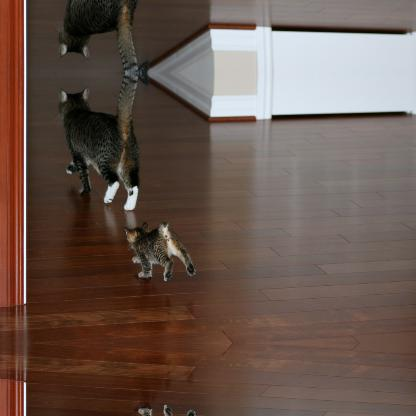Cat: (51, 72, 155, 210), (51, 0, 156, 73), (120, 222, 198, 278)
